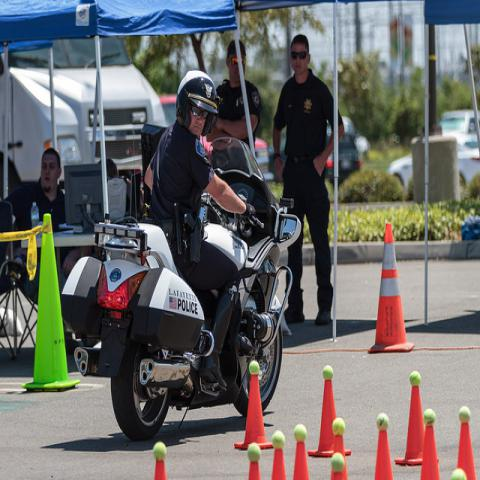car: (159, 92, 274, 181), (388, 133, 479, 194), (325, 131, 363, 185), (341, 116, 369, 160), (438, 109, 478, 138)
motorcycle: (93, 142, 299, 440)
truck: (1, 36, 171, 183)
